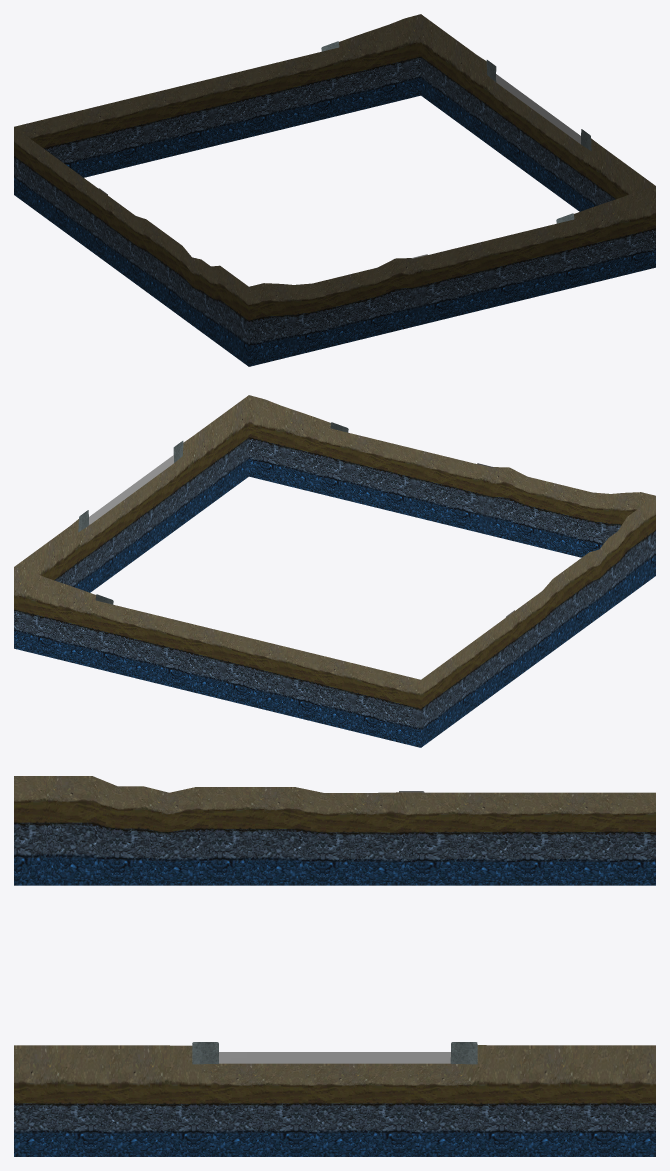
The picture shows the model from 3 angles, top to bottom: view 1: azimuth 30°, elevation 25°; view 2: azimuth 150°, elevation 25°; view 3: azimuth 270°, elevation 25°; orthographic projection. The views are drawn at different scales.
Parts seen in each view (by area): view 1: Joint_0_Object_3, Joint_0_Object_4; view 2: Joint_0_Object_3, Joint_0_Object_4; view 3: Joint_0_Object_3, Joint_0_Object_4, Joint_0_Object_2.
Boxes of the visible parts, x1,y1,x2,y2 form: Joint_0_Object_3: [14, 14, 655, 366]; Joint_0_Object_4: [496, 74, 580, 144]; Joint_0_Object_3: [14, 395, 655, 747]; Joint_0_Object_4: [89, 455, 173, 524]; Joint_0_Object_3: [14, 776, 655, 1156]; Joint_0_Object_4: [219, 1052, 450, 1063]; Joint_0_Object_2: [192, 1042, 477, 1064].
Bounding box in the file's own units: 10022 × 1977 × 10000.
